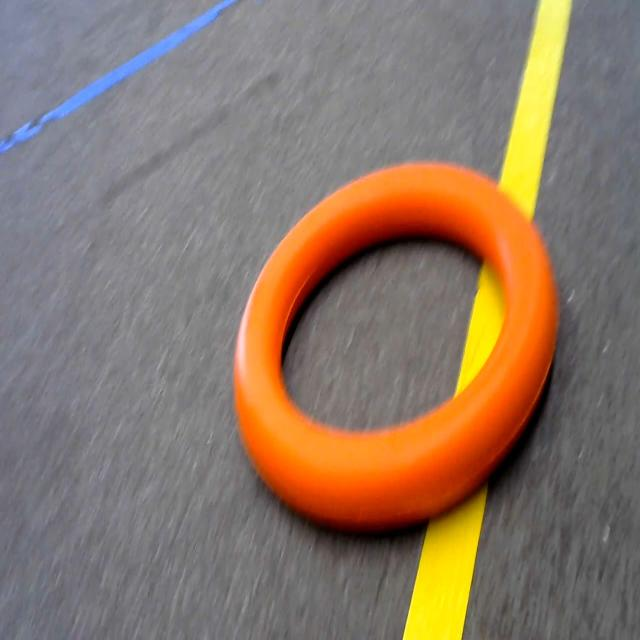note: (239, 145, 583, 527)
